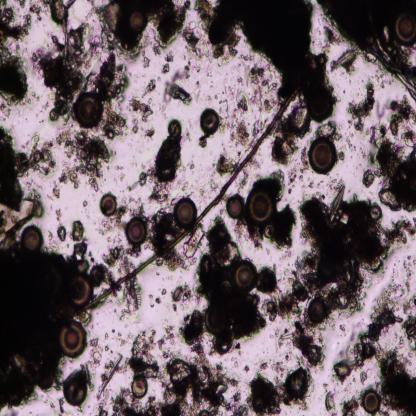Background material: (300, 193, 411, 309), (0, 234, 71, 410), (320, 2, 416, 101), (201, 216, 267, 353), (239, 1, 330, 93), (32, 0, 87, 117), (159, 348, 249, 416), (87, 1, 189, 60), (352, 284, 402, 369), (371, 126, 416, 212), (248, 361, 312, 415), (0, 0, 32, 107), (57, 133, 113, 191), (374, 343, 416, 414), (0, 122, 29, 212), (80, 238, 131, 288), (195, 0, 239, 57), (272, 103, 308, 163), (375, 96, 416, 148), (264, 278, 309, 323), (128, 325, 162, 380), (168, 224, 205, 268), (0, 194, 40, 234), (294, 321, 326, 370), (95, 53, 129, 99), (112, 385, 161, 415), (178, 311, 210, 356), (348, 79, 375, 132), (180, 163, 216, 201), (102, 198, 136, 236), (248, 68, 277, 112), (268, 206, 296, 249), (154, 139, 182, 182), (30, 132, 57, 176), (148, 209, 174, 253), (400, 289, 416, 347), (104, 101, 127, 139), (97, 323, 124, 353), (184, 21, 203, 63), (160, 83, 192, 106), (391, 258, 416, 287), (374, 63, 398, 92), (229, 124, 253, 152), (332, 354, 353, 384), (257, 266, 279, 294), (171, 283, 192, 311), (129, 98, 153, 122), (72, 242, 90, 274), (87, 337, 102, 375), (313, 120, 343, 137), (230, 93, 250, 118), (211, 154, 237, 173), (148, 182, 167, 205), (69, 218, 86, 243), (147, 289, 168, 309), (170, 64, 193, 82), (138, 78, 157, 98), (320, 25, 337, 45), (162, 324, 176, 347), (350, 140, 366, 160), (360, 169, 375, 189), (194, 79, 206, 104), (356, 368, 370, 387), (50, 177, 61, 201), (29, 4, 43, 22), (114, 166, 126, 182), (96, 401, 110, 414), (144, 127, 156, 142), (56, 224, 66, 242), (132, 117, 140, 135), (198, 137, 209, 150), (138, 174, 148, 188), (410, 217, 416, 239), (55, 208, 63, 222), (161, 62, 170, 74), (142, 56, 151, 68), (338, 149, 345, 162), (82, 196, 88, 208)
Diatom: (245, 184, 276, 226), (309, 136, 338, 177), (58, 320, 87, 360), (98, 355, 122, 401), (75, 94, 104, 131), (62, 371, 91, 406), (306, 86, 334, 118), (394, 9, 416, 47), (174, 197, 198, 231), (234, 260, 257, 294), (330, 47, 360, 72), (70, 275, 92, 307), (329, 184, 346, 224), (21, 225, 44, 253), (124, 278, 141, 314), (126, 217, 147, 245), (199, 108, 220, 135), (308, 297, 328, 324), (360, 388, 380, 413), (225, 195, 244, 220), (99, 193, 117, 217), (324, 386, 337, 416), (128, 12, 147, 32), (132, 376, 148, 398), (367, 202, 383, 221), (167, 118, 181, 139), (197, 366, 209, 382), (280, 329, 295, 340), (48, 110, 58, 122), (130, 180, 139, 190)
